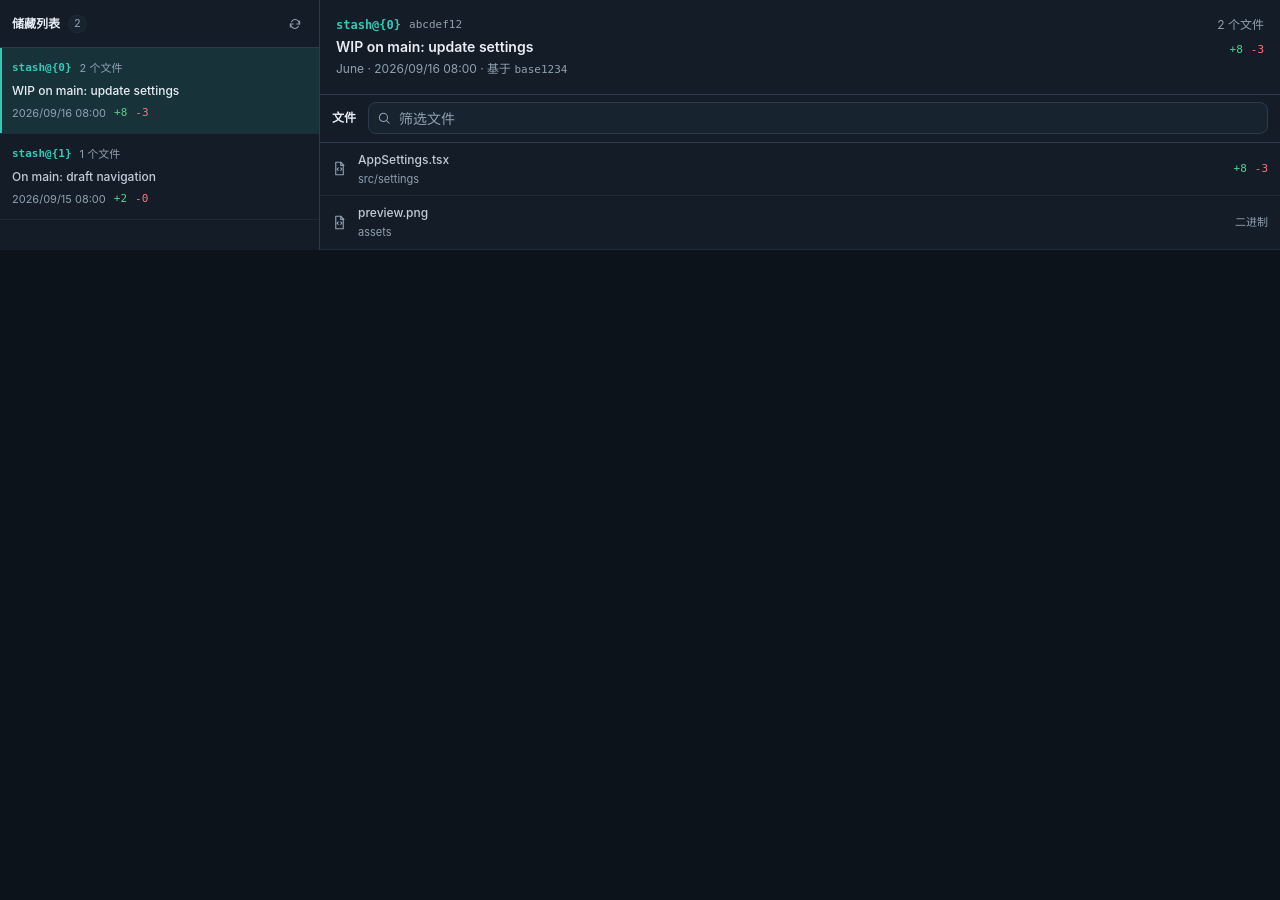
Scenario: RepositoryStashBrowser › opens the stash action menu on right-click and confirms delete with the complete stash
Right-click the button with aria-label "stash@{1} On main: draft navigation": (42, 154) [0, 134, 319, 220]
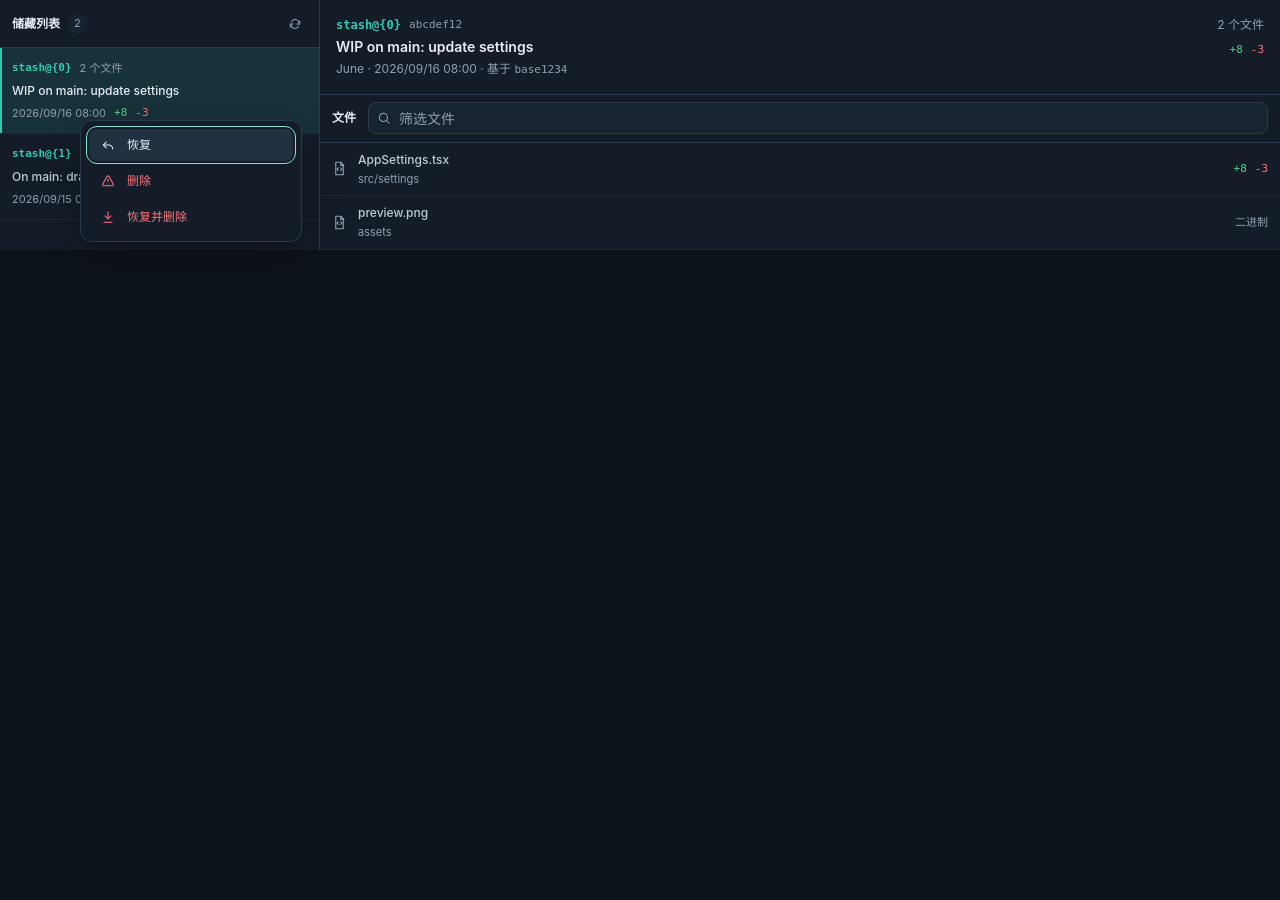
Expected: the menu named "stash@{1} 储藏操作" is shown
Press ArrowDown in the menu named "stash@{1} 储藏操作", box [80, 120, 302, 242]
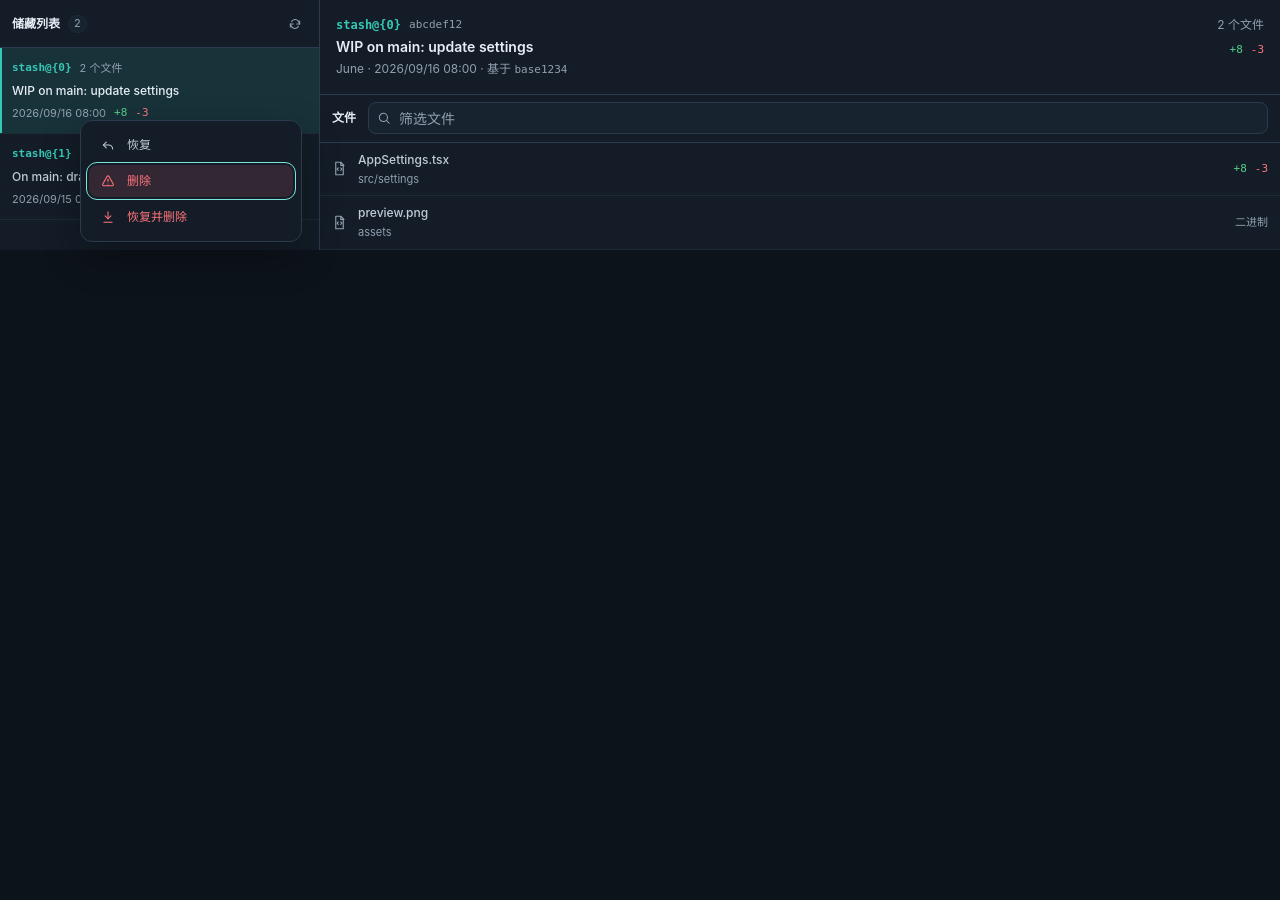
Click the menu item "删除": click(191, 181) [89, 165, 293, 197]
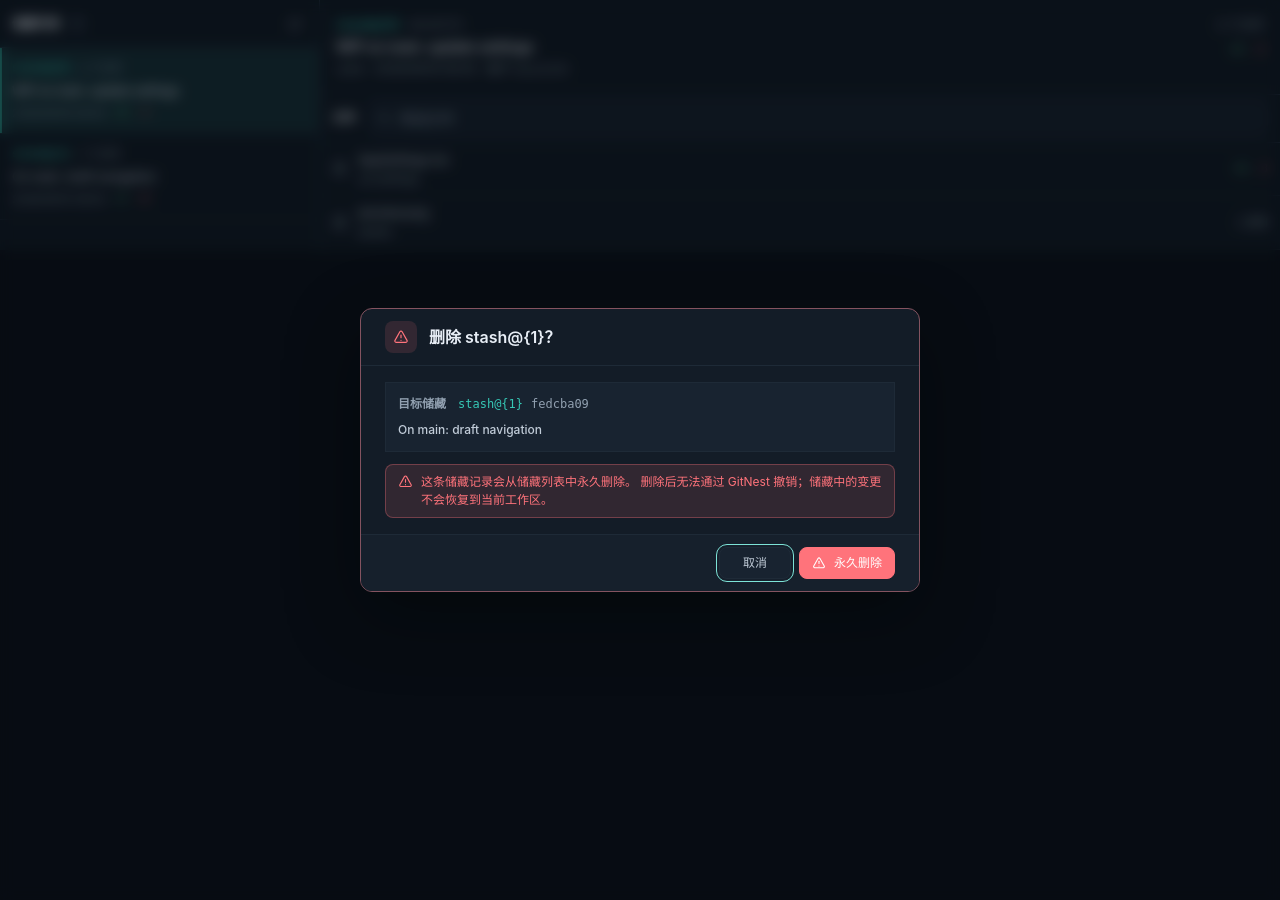
Expected: the dialog shows "删除 stash@{1}？", [429, 327, 561, 347]
Expected: the dialog shows "永久删除"
Expected: the dialog shows "不会恢复到当前工作区", [421, 474, 881, 507]
Click the button "永久删除": click(847, 563) [799, 547, 895, 579]
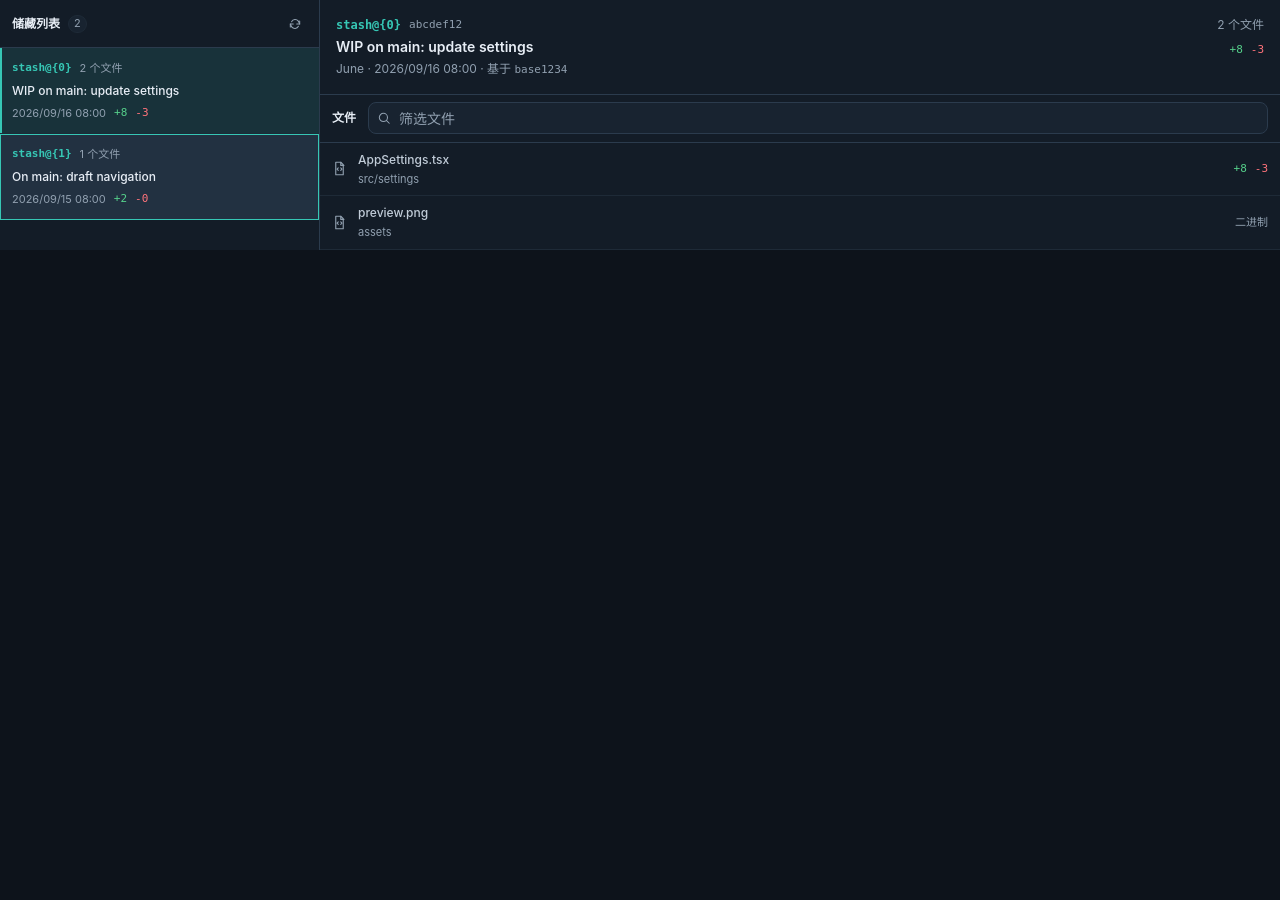
Expected: the dialog is gone
